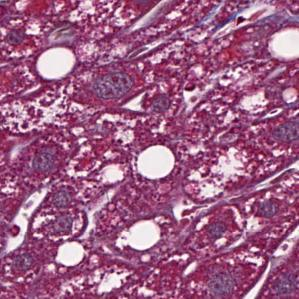steatosis: (115, 217, 165, 251), (134, 141, 175, 179), (35, 46, 77, 80), (52, 239, 91, 263)
